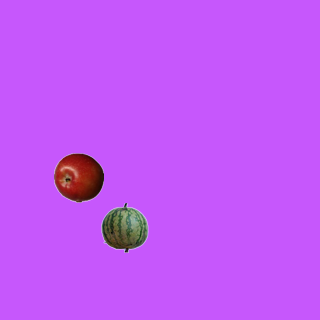Apple Braeburn: (53, 152, 103, 202)
Watermelon: (99, 202, 149, 252)
